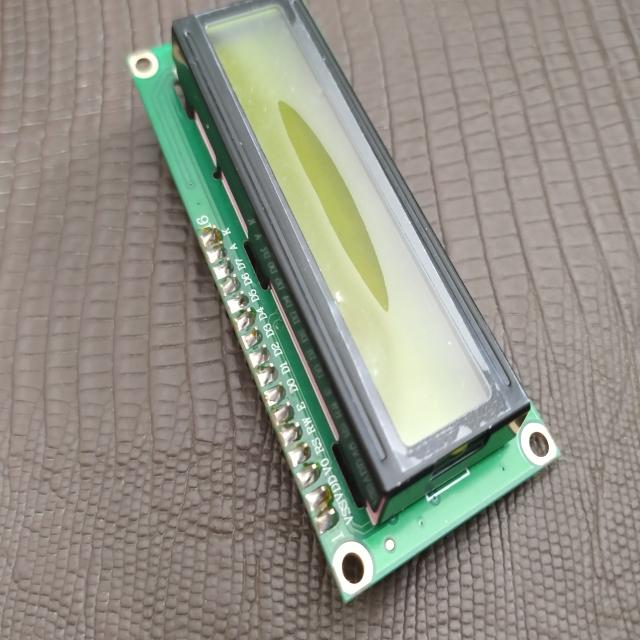lcd: (101, 0, 586, 622)
